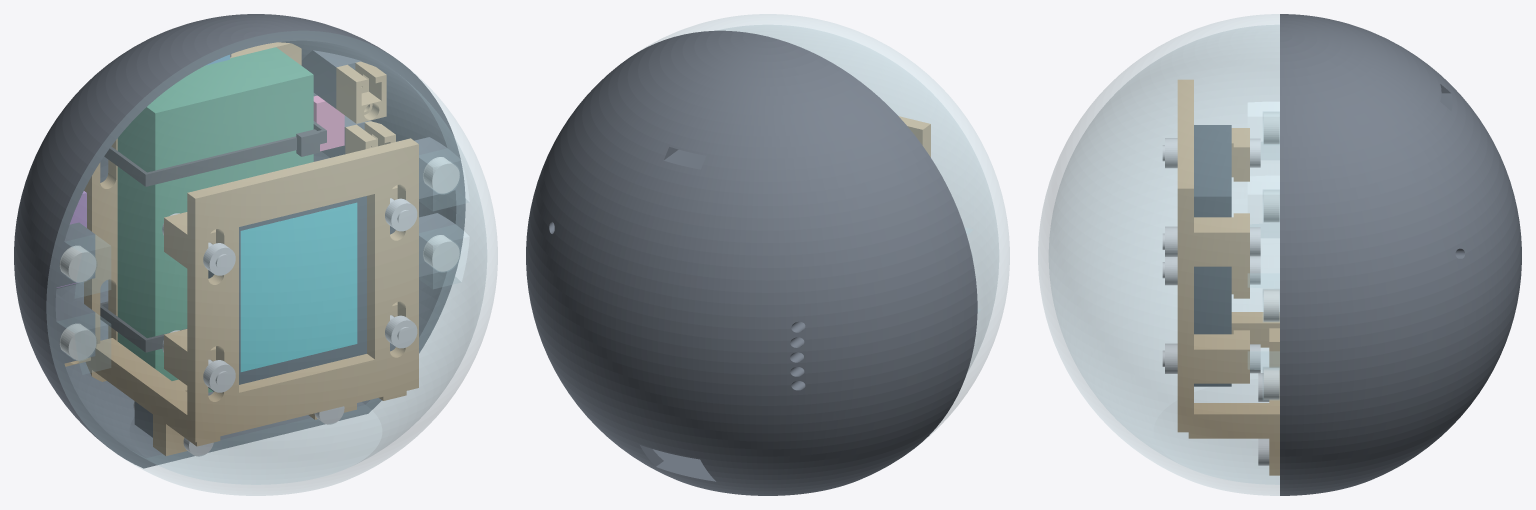
The model's file is xiaohuan-assembly.glb.
The picture shows the model from 3 angles, left to right: view 1: azimuth 30°, elevation 25°; view 2: azimuth 150°, elevation 25°; view 3: azimuth 270°, elevation 25°; orthographic projection.
Visible parts, largest first — view 1: 透明前罩, 后壳, 内部托架, ESP32-S3 包络, LCD 显示区, LCD 包络, 主板扎带 17, 可拆接头卡座 switch, 压片 -1 -12, 压片 -1 12, 可拆接头卡座 mic, 麦克风占位 (+9 smaller); view 2: 后壳, 透明前罩, 内部托架; view 3: 后壳, 透明前罩, 内部托架, LCD 包络, 压片 1 -12, 压片 1 12, 压片 -1 12, 压片 -1 -12, 磁铁 1 8 -1, 磁铁 1 -8 -1, 磁铁 -1 -8 -1, 磁铁 -1 8 -1.
Boxes of the visible parts, box(x1,y1,x2,y2) form: 透明前罩: box(46, 31, 497, 495); 后壳: box(14, 14, 465, 468); 内部托架: box(84, 42, 418, 455); ESP32-S3 包络: box(117, 47, 313, 392); LCD 显示区: box(240, 202, 357, 371); LCD 包络: box(208, 196, 366, 391); 主板扎带 17: box(104, 121, 326, 186); 可拆接头卡座 switch: box(336, 61, 386, 123); 压片 -1 -12: box(164, 329, 215, 385); 压片 -1 12: box(164, 212, 215, 268); 可拆接头卡座 mic: box(345, 121, 395, 154); 麦克风占位: box(313, 95, 344, 151); 后壳: box(526, 30, 977, 495); 透明前罩: box(642, 14, 1009, 439); 内部托架: box(898, 116, 930, 157); 后壳: box(1280, 14, 1521, 495); 透明前罩: box(1038, 14, 1279, 495); 内部托架: box(1177, 79, 1279, 475); LCD 包络: box(1194, 125, 1231, 386); 压片 1 -12: box(1194, 330, 1249, 383); 压片 1 12: box(1194, 213, 1249, 266); 压片 -1 12: box(1231, 128, 1249, 181); 压片 -1 -12: box(1231, 266, 1249, 298); 磁铁 1 8 -1: box(1263, 289, 1279, 321); 磁铁 1 -8 -1: box(1263, 367, 1279, 399); 磁铁 -1 -8 -1: box(1263, 190, 1279, 222); 磁铁 -1 8 -1: box(1263, 112, 1279, 144).
Size of the model in its own units: 0.09 by 0.083 by 0.09.
